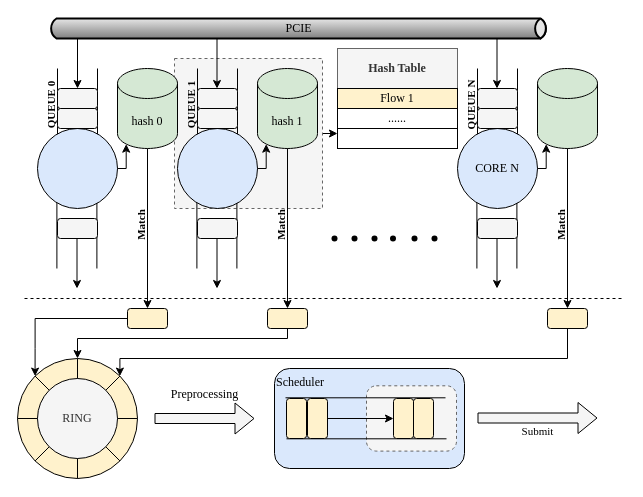
This 643x497 diagram has some shape labels left out. The shapes that lost their labels are listed below. From the top down, each one's box as (x1, y1, x2, y2) in pixels, then its label:
(536, 68, 598, 148): hash N
(336, 128, 458, 148): Flow n
(36, 128, 118, 208): CORE 0
(176, 128, 258, 208): CORE 1
